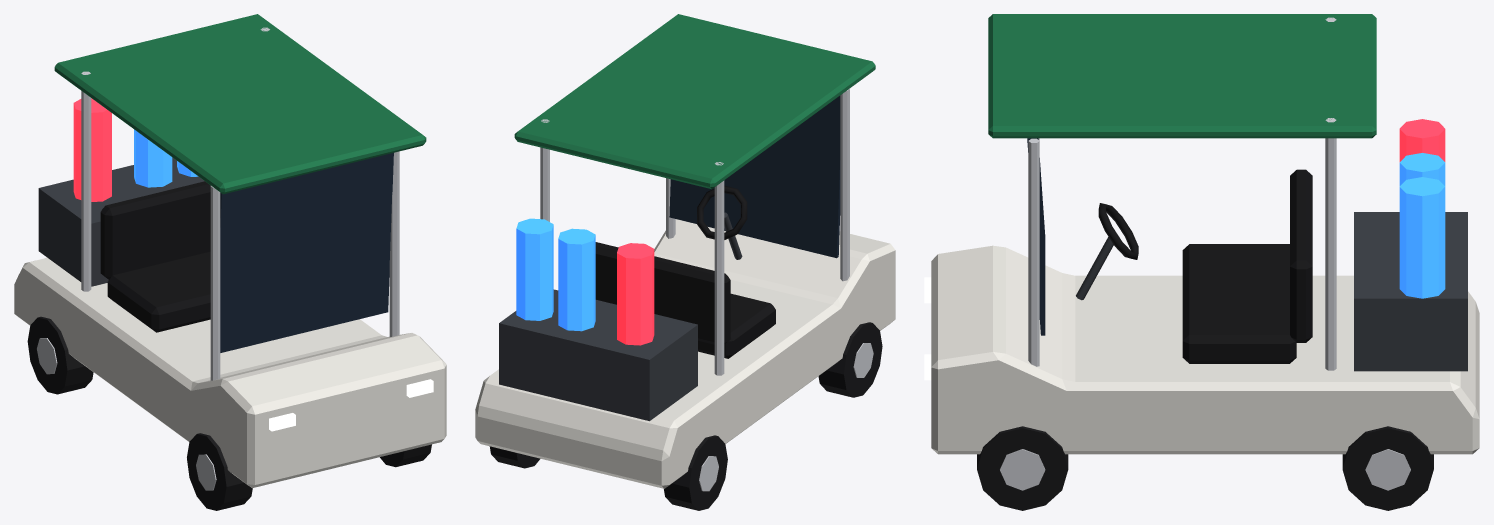
File: golf_cart.glb
3 renders of one model, left to right at view 1: azimuth 30°, elevation 25°; view 2: azimuth 150°, elevation 25°; view 3: azimuth 270°, elevation 25°, orthographic. The views are drawn at different scales.
Visible parts, largest first — view 1: golf_cart; view 2: golf_cart; view 3: golf_cart.
Part boxes in pixels (x1,y1,x2,y2): golf_cart: (14,14,446,510); golf_cart: (475,14,895,510); golf_cart: (924,14,1479,510).
Bounding box in the file's own units: 1.21 × 1.85 × 2.43.
